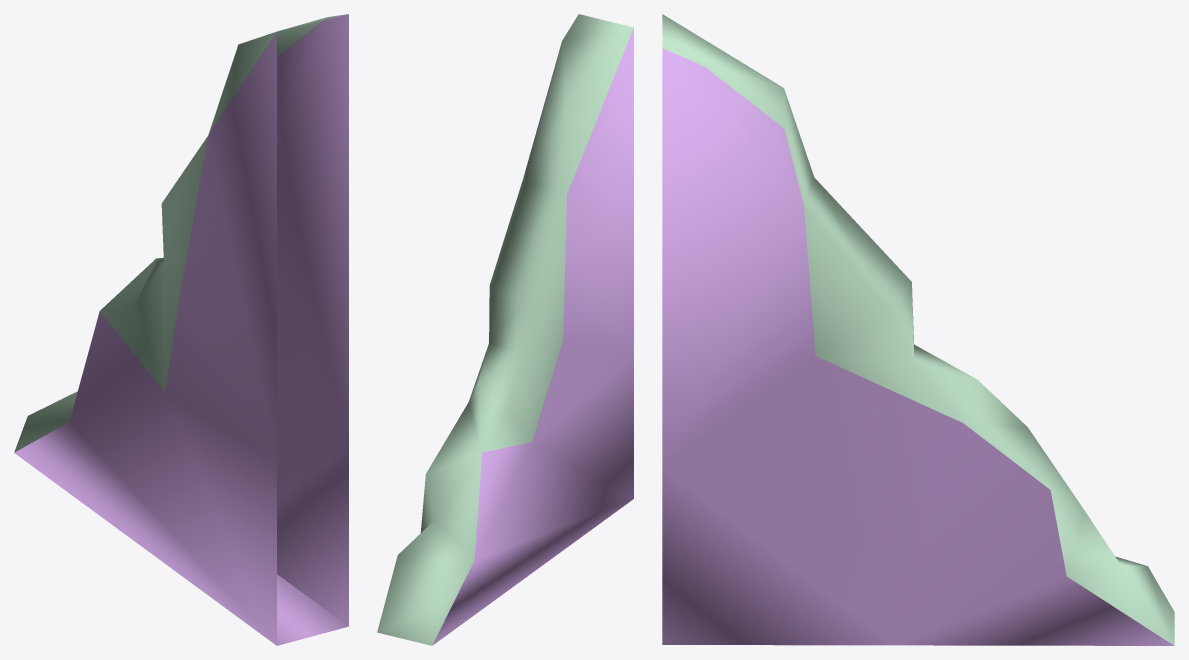
3 views of the same model, side by side, from view 1: azimuth 30°, elevation 25°; view 2: azimuth 150°, elevation 25°; view 3: azimuth 270°, elevation 25° (orthographic). The views are drawn at different scales.
Parts seen in each view (by area): view 1: Object27; view 2: Object27; view 3: Object27.
Boxes of the visible parts, box(x1,y1,x2,y2) form: Object27: box(14, 14, 348, 645); Object27: box(377, 14, 633, 645); Object27: box(662, 14, 1174, 645).
Size of the model in its own units: 3254 by 25578 by 19836.
